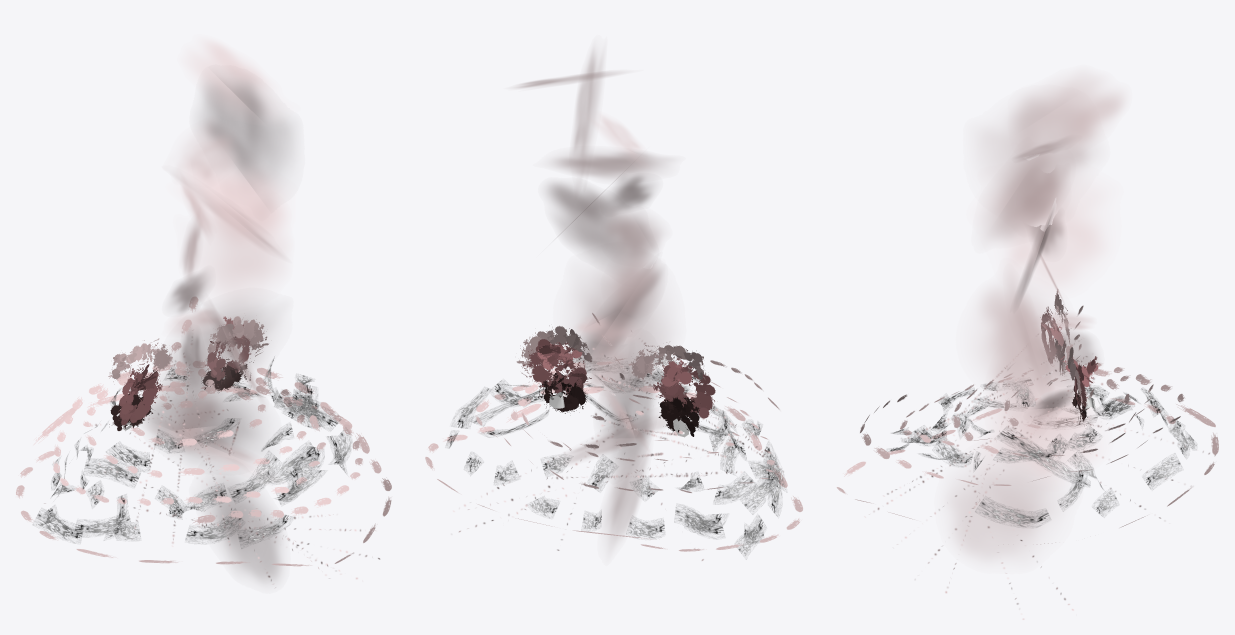
The picture shows the model from 3 angles, left to right: view 1: azimuth 30°, elevation 25°; view 2: azimuth 150°, elevation 25°; view 3: azimuth 270°, elevation 25°; orthographic projection. The views are drawn at different scales.
Visible parts, largest first — view 1: brush_Smoke_g0_b0_4, brush_Light_g0_b0_0, brush_Fire_g0_b0_7, brush_Splatter_g0_b0_5, brush_Embers_g0_b0_3; view 2: brush_Smoke_g0_b0_4, brush_Splatter_g0_b0_5, brush_Fire_g0_b0_7, brush_Light_g0_b0_0, brush_Embers_g0_b0_3; view 3: brush_Smoke_g0_b0_4, brush_Fire_g0_b0_7, brush_Light_g0_b0_0, brush_Splatter_g0_b0_5, brush_Embers_g0_b0_3.
Part boxes in pixels (<box>): brush_Smoke_g0_b0_4: <box>144,40,291,581</box>; brush_Light_g0_b0_0: <box>16,296,391,566</box>; brush_Fire_g0_b0_7: <box>36,359,351,548</box>; brush_Splatter_g0_b0_5: <box>108,316,268,430</box>; brush_Embers_g0_b0_3: <box>44,331,379,587</box>; brush_Smoke_g0_b0_4: <box>514,49,669,546</box>; brush_Splatter_g0_b0_5: <box>516,325,715,436</box>; brush_Fire_g0_b0_7: <box>447,354,784,555</box>; brush_Light_g0_b0_0: <box>425,313,802,551</box>; brush_Embers_g0_b0_3: <box>453,330,783,560</box>; brush_Smoke_g0_b0_4: <box>947,72,1125,560</box>; brush_Fire_g0_b0_7: <box>890,379,1196,526</box>; brush_Light_g0_b0_0: <box>836,305,1218,544</box>; brush_Splatter_g0_b0_5: <box>1040,289,1108,425</box>; brush_Embers_g0_b0_3: <box>864,313,1215,619</box>.
Bounding box in the file's own units: 0.7479 × 1.28 × 0.7708.
6 materials, 6 textured.
